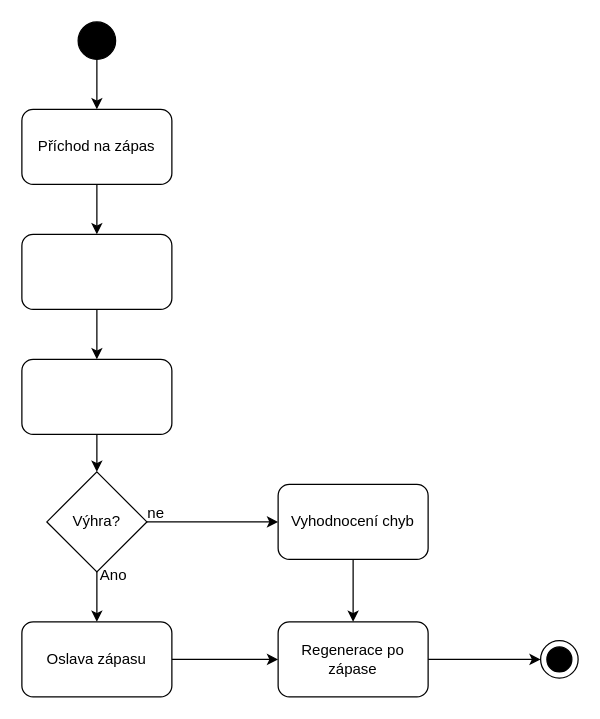
Some shapes in this 600 by 719 pixel diagram are drawn without their labels. The centre of each missing label's shape, as x and y in pixels:
"Průběh zápasu" belongs at [96,396].
"Zapracování/zahřátí před zápasem" belongs at [96,271].
